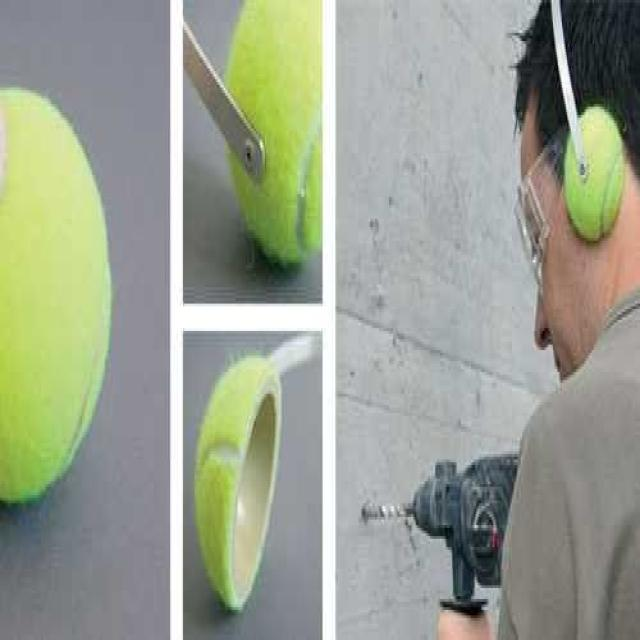Tennis_Ball: (0, 89, 111, 505), (223, 0, 325, 245)
